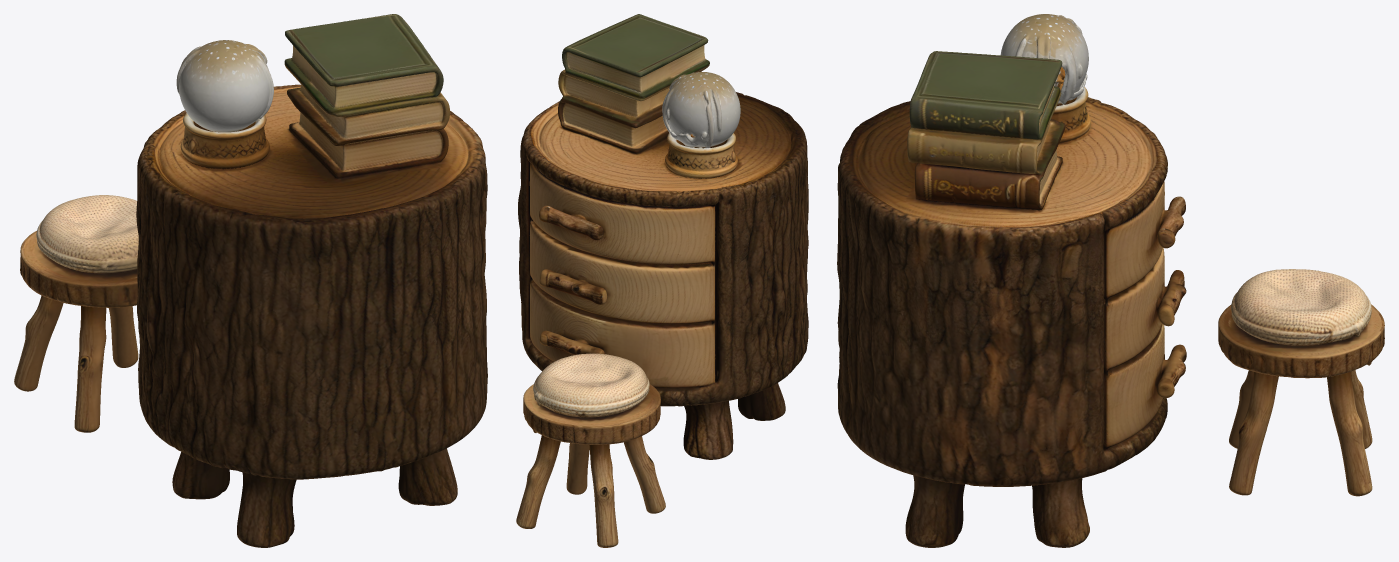
File: C05-树桩夜柜3d模型.glb
3 views of the same model, side by side, from view 1: azimuth 30°, elevation 25°; view 2: azimuth 150°, elevation 25°; view 3: azimuth 270°, elevation 25° (orthographic). The views are drawn at different scales.
Visible parts, largest first — view 1: tripo_node_71d7f900-d467-4480-8a30-7afb656fca9d; view 2: tripo_node_71d7f900-d467-4480-8a30-7afb656fca9d; view 3: tripo_node_71d7f900-d467-4480-8a30-7afb656fca9d.
Boxes of the visible parts, left/top/right/bottom form: tripo_node_71d7f900-d467-4480-8a30-7afb656fca9d: left=14, top=14, right=487, bottom=547; tripo_node_71d7f900-d467-4480-8a30-7afb656fca9d: left=516, top=14, right=808, bottom=547; tripo_node_71d7f900-d467-4480-8a30-7afb656fca9d: left=837, top=14, right=1384, bottom=547.
Size of the model in its own units: 0.6503 by 0.9038 by 1.
1 material, 1 textured.
